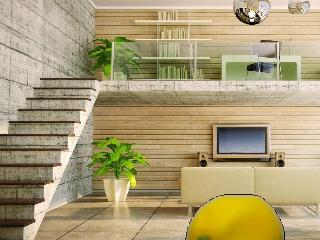lemon: (185, 194, 285, 239)
